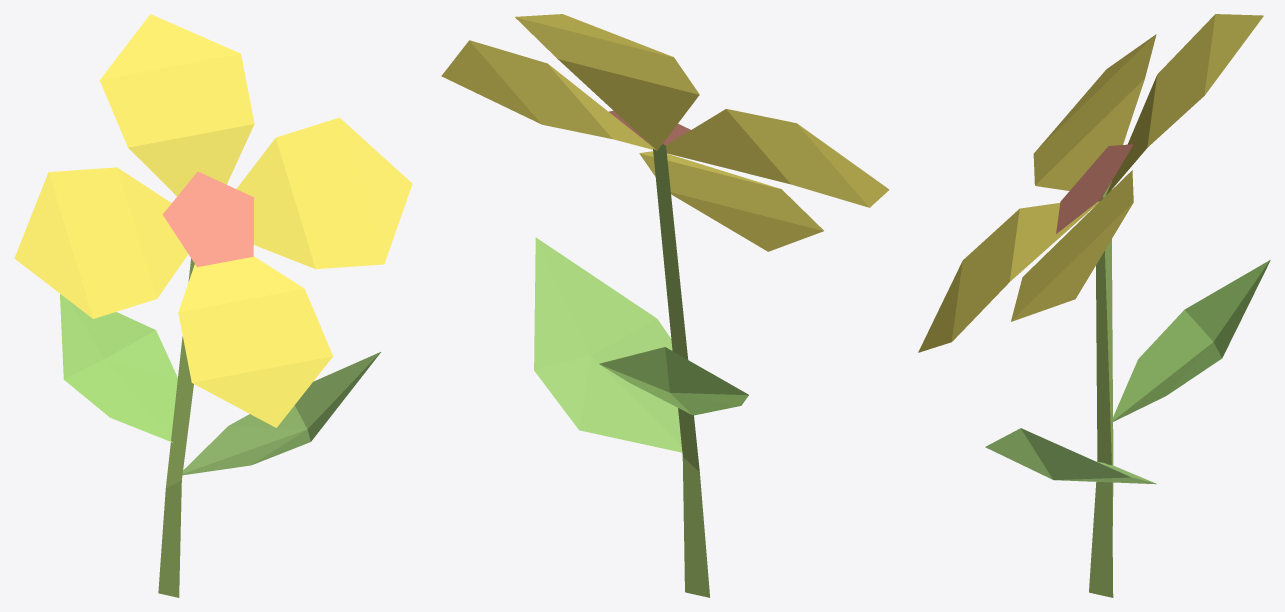
Rendered from Flower_d_TwoS_08.fbx.
3 views of the same model, side by side, from view 1: azimuth 30°, elevation 25°; view 2: azimuth 150°, elevation 25°; view 3: azimuth 270°, elevation 25° (orthographic). The views are drawn at different scales.
Parts seen in each view (by area): view 1: Flower_d_TwoS_08; view 2: Flower_d_TwoS_08; view 3: Flower_d_TwoS_08.
Part boxes in pixels (x1,y1,x2,y2): Flower_d_TwoS_08: (14, 14, 412, 597); Flower_d_TwoS_08: (441, 14, 889, 597); Flower_d_TwoS_08: (918, 14, 1270, 597).
Bounding box in the file's own units: 25.63 × 32.95 × 17.46.
